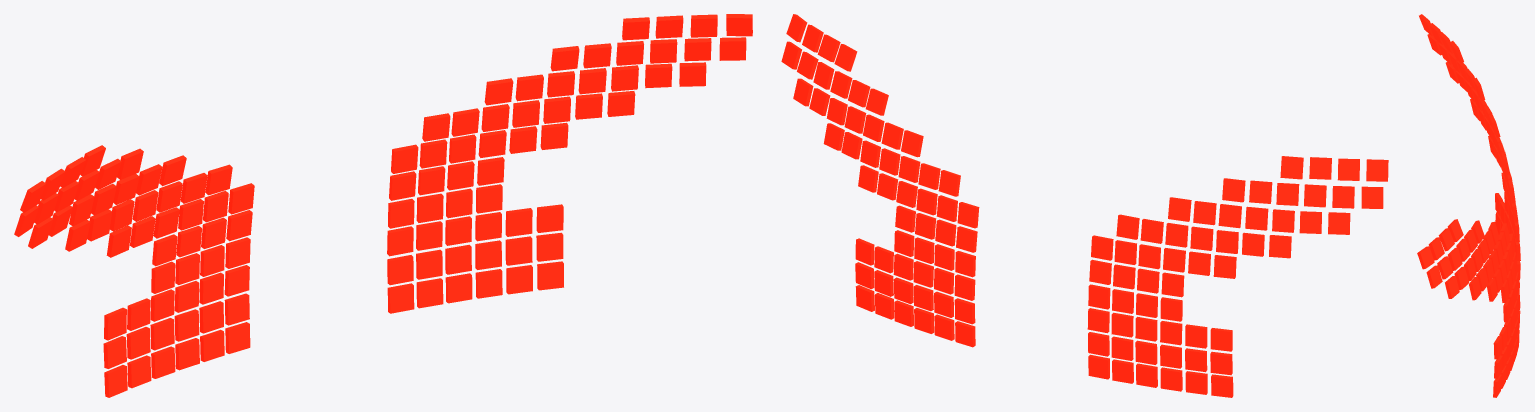
Rendered from chr_bunny01_expression_angry_visual_top3d.glb.
3 views of the same model, side by side, from view 1: azimuth 30°, elevation 25°; view 2: azimuth 150°, elevation 25°; view 3: azimuth 270°, elevation 25° (orthographic). The views are drawn at different scales.
Parts seen in each view (by area): view 1: ExpressionPixels; view 2: ExpressionPixels; view 3: ExpressionPixels.
Boxes of the visible parts, box(x1,y1,x2,y2) form: ExpressionPixels: box(14, 14, 752, 397); ExpressionPixels: box(781, 14, 1388, 397); ExpressionPixels: box(1417, 14, 1520, 397).
Bounding box in the file's own units: 0.3806 × 0.1394 × 0.0692.
